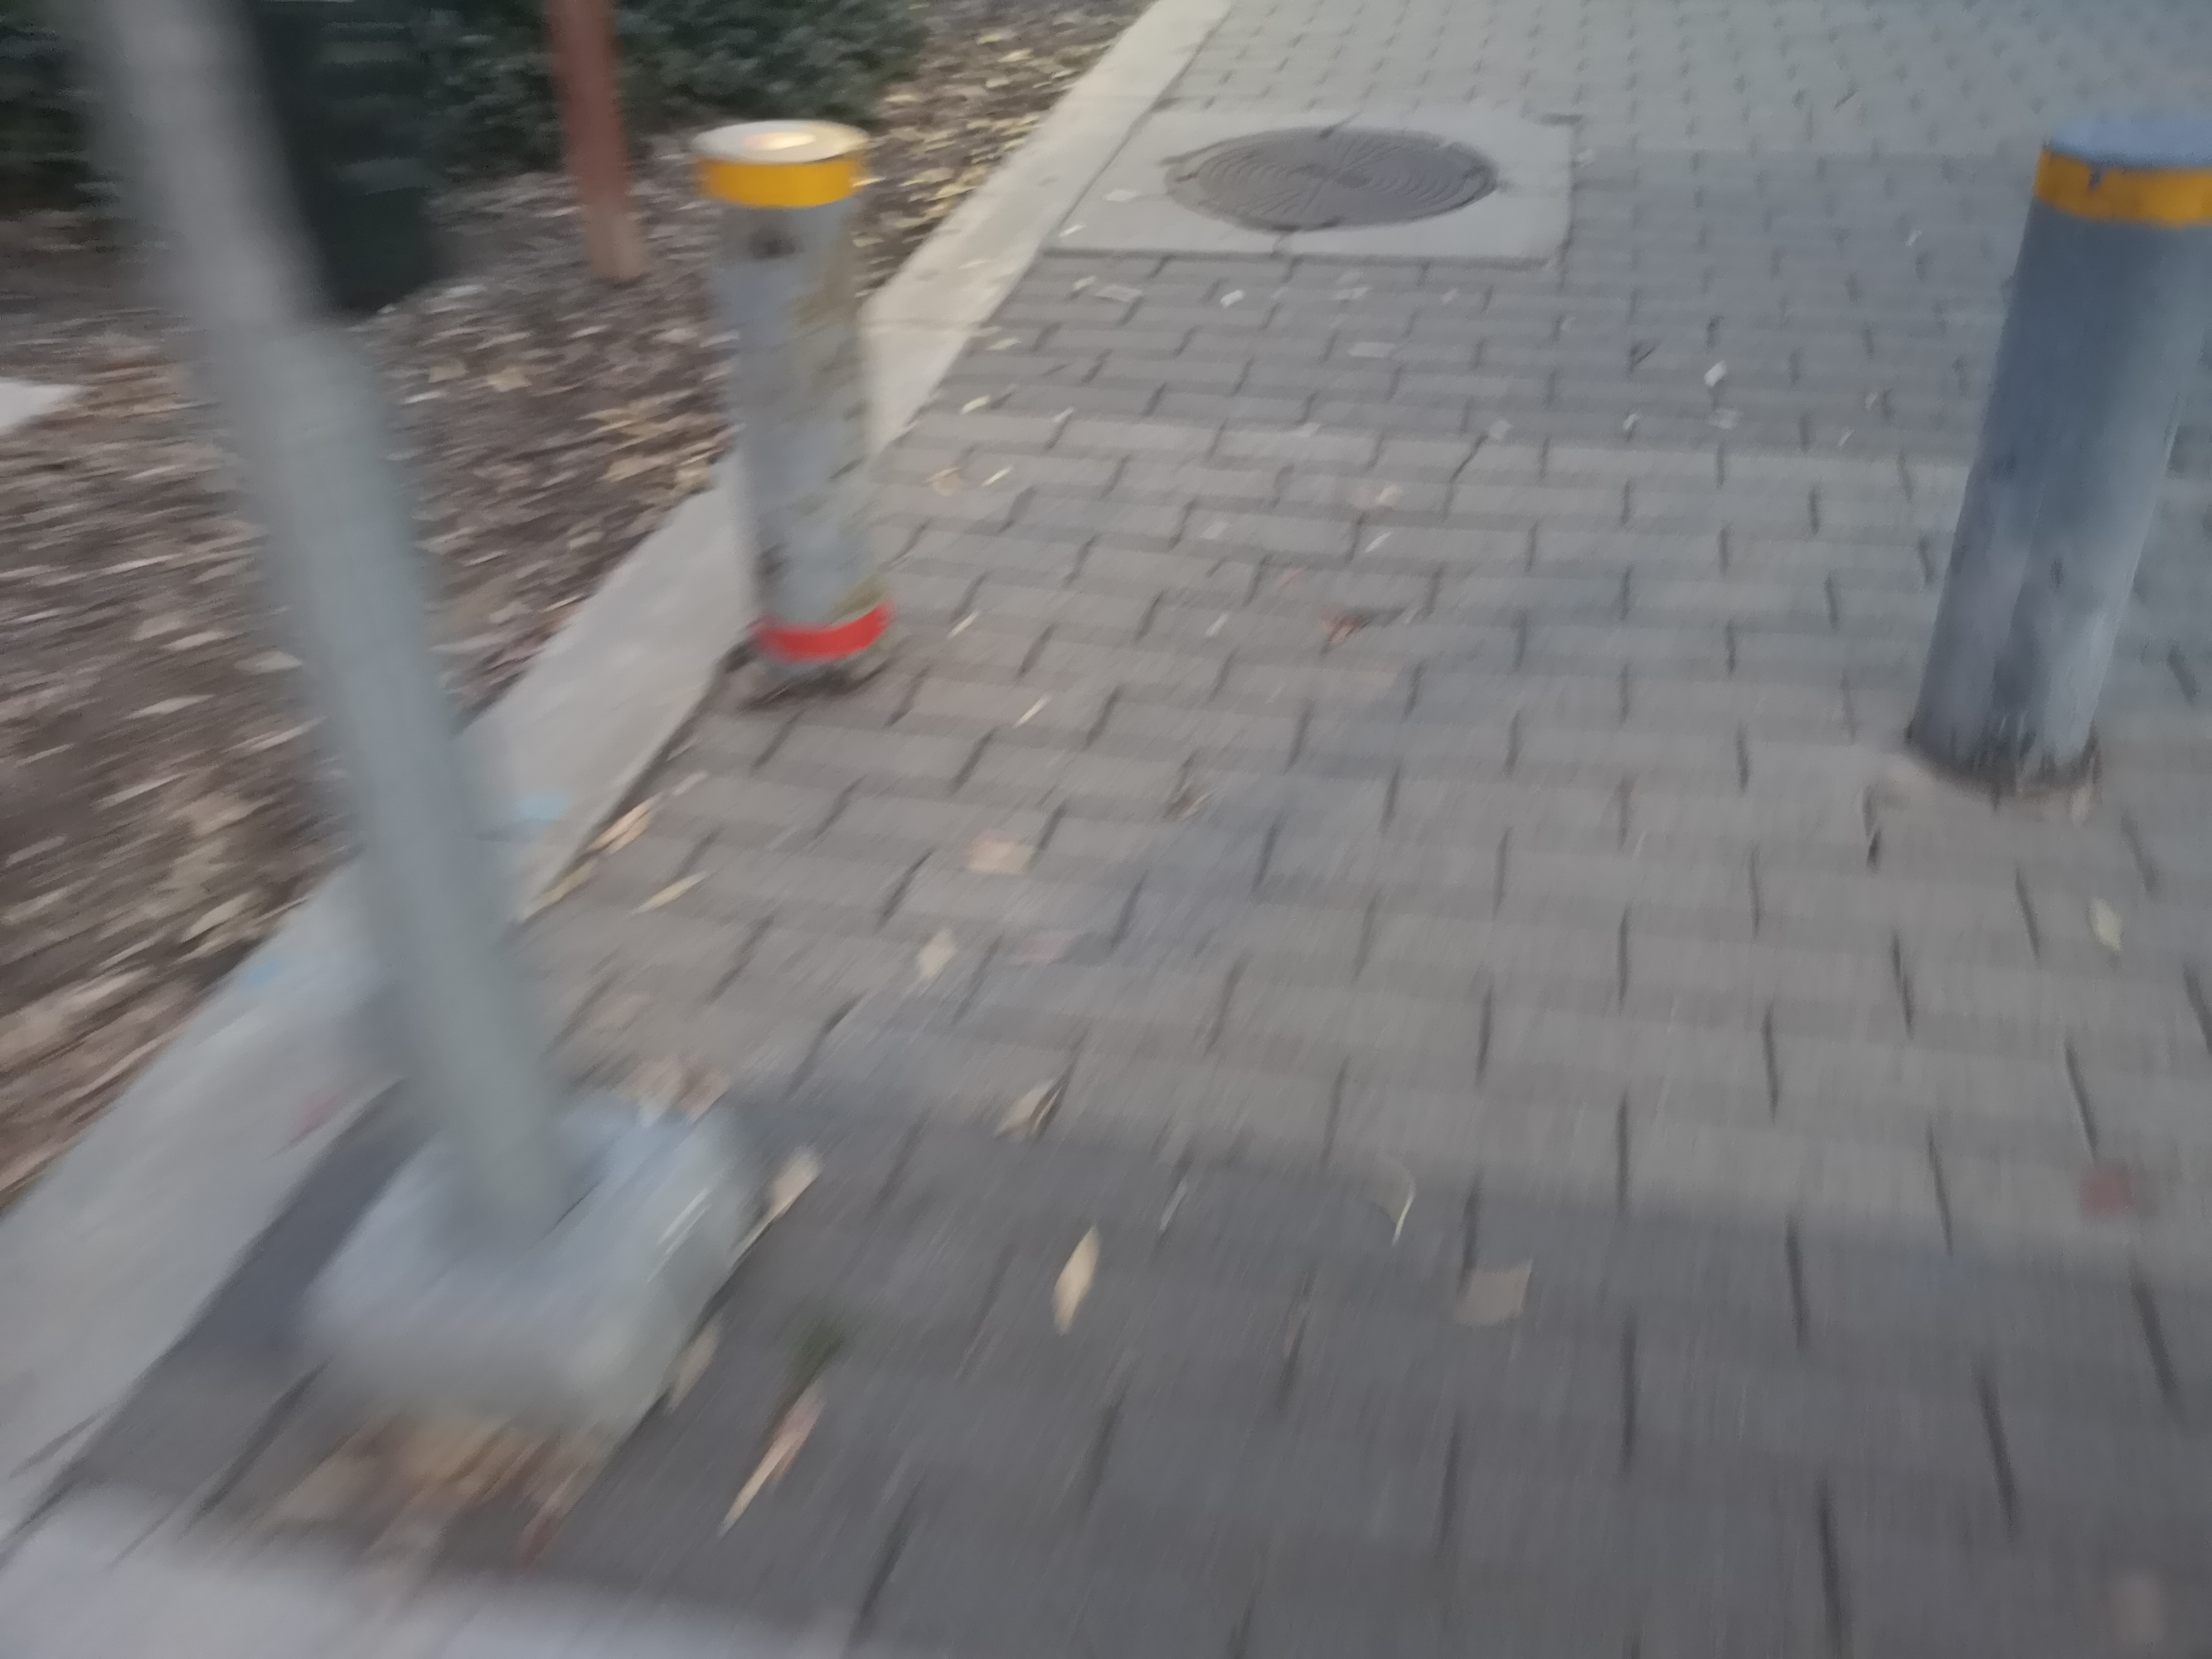Edge: (2, 868, 327, 1206), (859, 0, 1150, 289), (460, 450, 719, 727)
Obstacle: (80, 5, 751, 1448), (1898, 122, 2193, 788), (700, 120, 883, 711)
